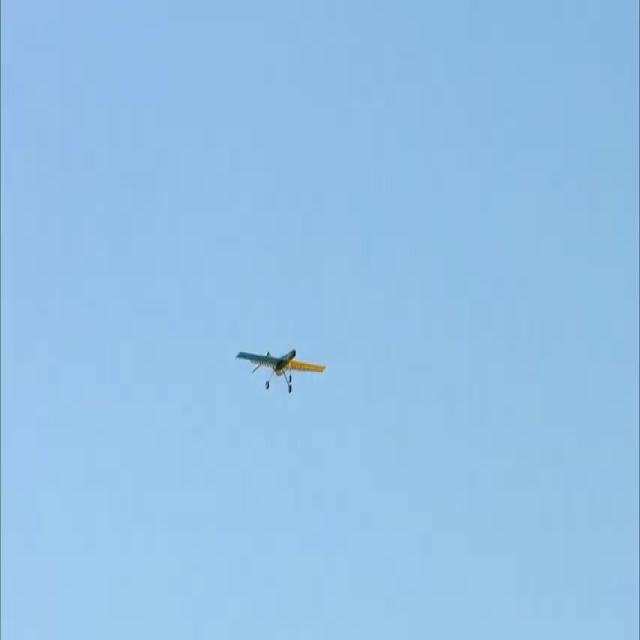iha: (266, 347, 295, 392)
